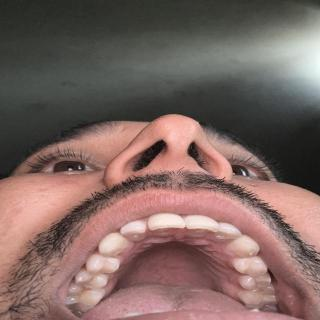UL1BC_healthy: (231, 257, 267, 275)
UL1M_healthy: (238, 289, 277, 309)
UL2BC_healthy: (238, 274, 271, 290)
ULCI_healthy: (185, 215, 217, 235)
ULC_healthy: (230, 234, 260, 257)
ULLI_healthy: (218, 222, 241, 240)
UR1BC_healthy: (86, 253, 120, 274)
UR1M_mdecay: (65, 283, 104, 312)
UR2BC_healthy: (74, 270, 109, 290)
URCI_healthy: (148, 213, 184, 232)
URC_healthy: (98, 232, 135, 256)
URLI_healthy: (120, 220, 149, 240)
